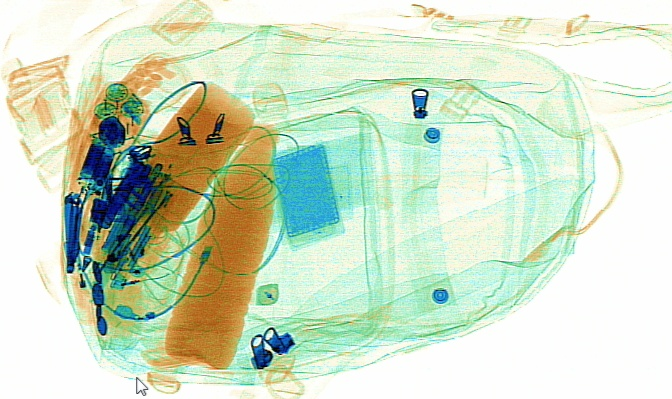lighter: (109, 210, 160, 290), (60, 239, 100, 326)
